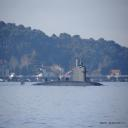submarine: (23, 57, 105, 86)
